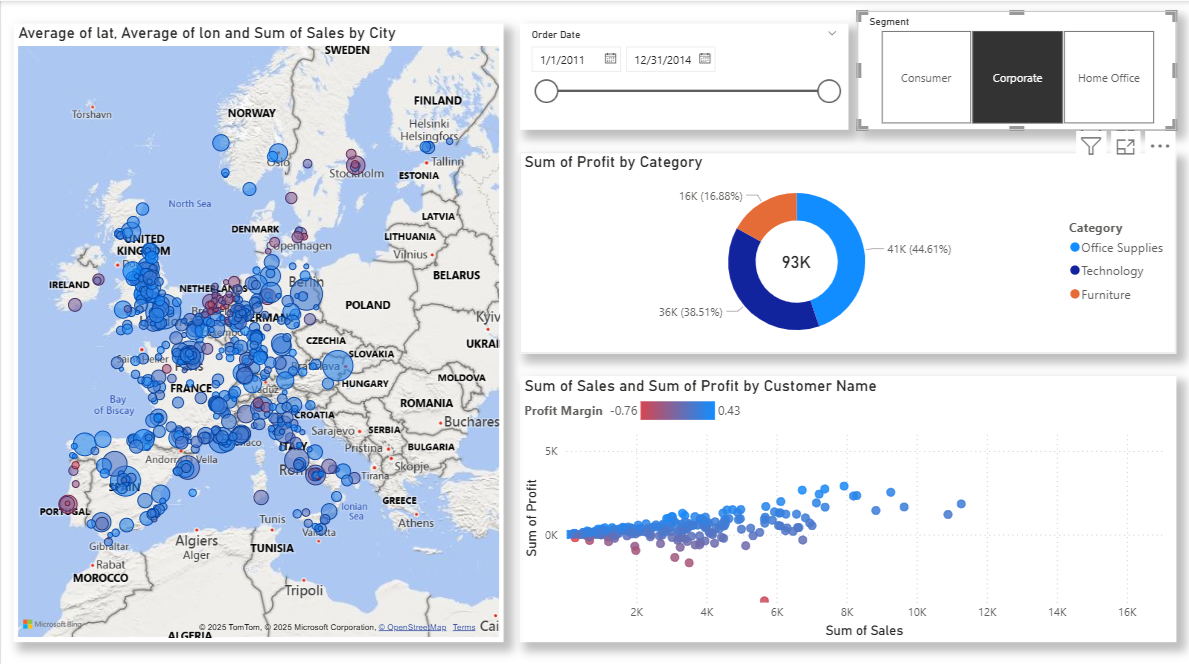

This screenshot's page, from the dashboard's own definition file:
{"tool":"powerbi","page":{"name":"Duplicate of Page 3","canvas":[1280,720],"ordinal":0},"visuals":[{"type":"scatterChart","fields":{"X":["Sum(OrderBreakdown.Sales)"],"Y":["Sum(OrderBreakdown.Profit)"],"Category":["ListOfOrders.Customer Name"]},"box":[558.1,403.4,706,286.4],"z":0},{"type":"map","fields":{"Category":["ListOfOrders.Geography.Country","ListOfOrders.Geography.State","ListOfOrders.Geography.City"],"Y":["Avg(ListOfOrders.lat)"],"X":["Avg(ListOfOrders.lon)"],"Size":["Sum(OrderBreakdown.Sales)"]},"box":[13.4,24.2,527.2,665.7],"z":1000},{"type":"slicer","fields":{"Values":["ListOfOrders.Order Date"]},"box":[558.1,24.2,353.7,114.3],"z":2000},{"type":"slicer","fields":{"Values":["ListOfOrders.Segment"]},"box":[921.2,10.8,342.9,127.8],"z":3000},{"type":"donutChart","fields":{"Y":["Sum(OrderBreakdown.Profit)"],"Category":["OrderBreakdown.Category"]},"box":[558.1,162.7,706,216.5],"z":4000},{"type":"card","fields":{"Values":["Sum(OrderBreakdown.Profit)"]},"box":[820.3,260.9,69.9,41.7],"z":5000}]}

Visuals, with their boxes in screenshot pixels (x1, y1, x2, y2), scaled from the page's 1280x720 canvas onto the 1189x664 screenshot:
scatterChart - Sum(OrderBreakdown.Sales) x Sum(OrderBreakdown.Profit): select_region(518, 372, 1174, 636)
map - ListOfOrders.Geography.Country x ListOfOrders.Geography.State: select_region(12, 22, 502, 636)
slicer - ListOfOrders.Order Date: select_region(518, 22, 847, 128)
slicer - ListOfOrders.Segment: select_region(856, 10, 1174, 128)
donutChart - Sum(OrderBreakdown.Profit) x OrderBreakdown.Category: select_region(518, 150, 1174, 350)
card - Sum(OrderBreakdown.Profit): select_region(762, 241, 827, 279)
